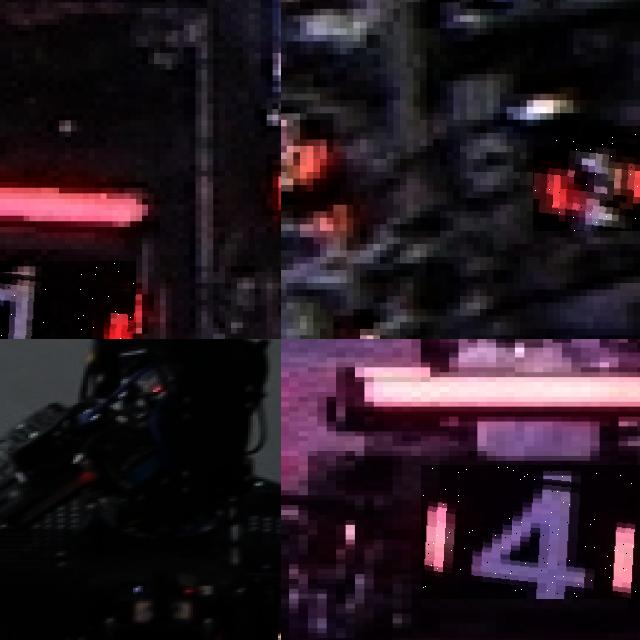R1: (0, 260, 136, 339)
R2: (533, 126, 640, 230), (281, 100, 333, 198)
R4: (421, 465, 640, 598)
